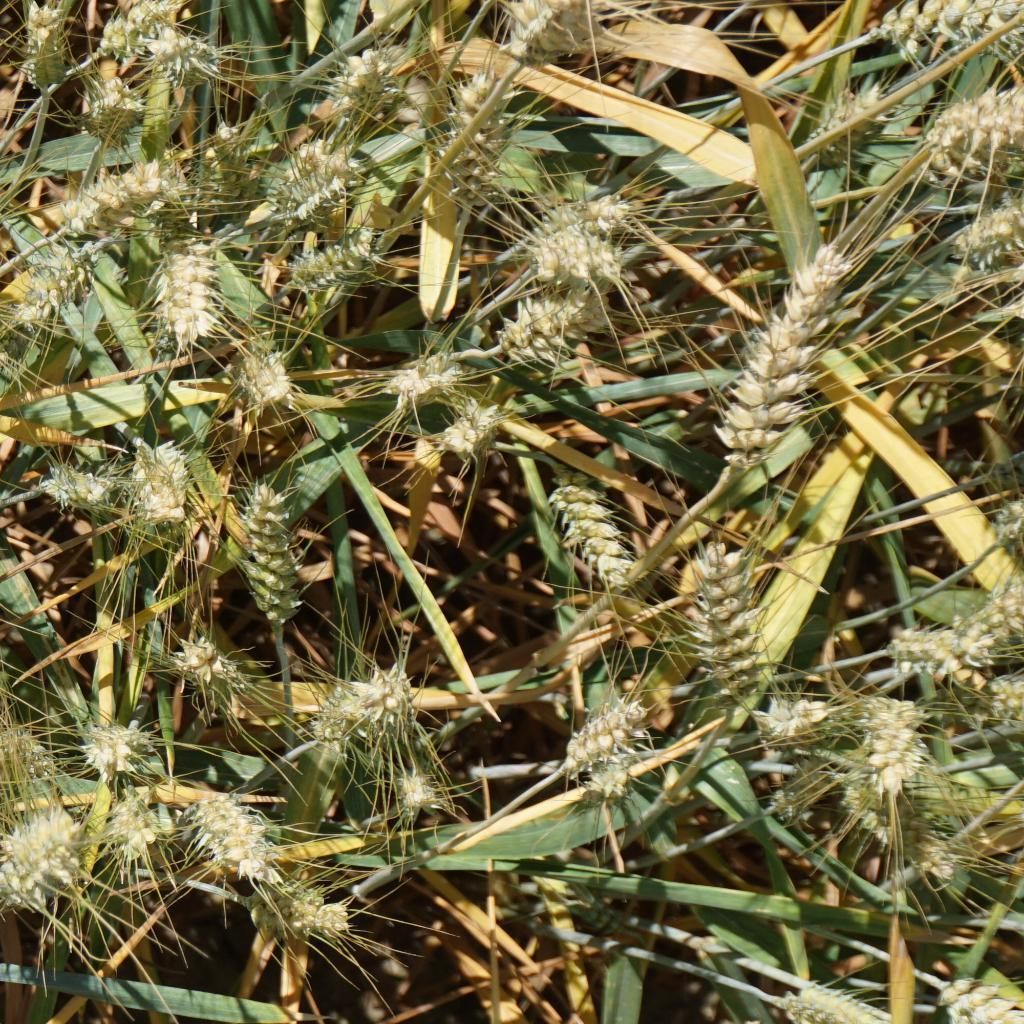0-0: (706, 231, 864, 481), (824, 759, 961, 888), (678, 526, 769, 691), (433, 71, 519, 219), (548, 473, 652, 595), (847, 678, 937, 793), (62, 156, 183, 241), (237, 477, 305, 621), (495, 291, 617, 369), (925, 89, 1024, 183), (139, 231, 220, 338), (934, 576, 1024, 666), (0, 812, 78, 915), (560, 688, 650, 776), (183, 782, 270, 871), (310, 39, 396, 126), (573, 730, 657, 819), (881, 0, 1004, 60), (802, 82, 890, 163), (761, 732, 839, 822), (877, 604, 965, 682), (21, 248, 103, 331), (385, 753, 472, 828), (180, 621, 251, 711), (540, 177, 640, 240), (268, 135, 335, 228), (197, 111, 254, 219), (359, 659, 435, 736), (136, 22, 224, 88), (128, 429, 188, 524), (947, 206, 1024, 279), (250, 884, 336, 948), (82, 708, 159, 779), (775, 976, 887, 1024), (84, 0, 177, 55), (100, 789, 164, 866), (36, 444, 111, 508), (519, 0, 598, 60), (940, 968, 1024, 1024), (15, 0, 64, 91), (440, 396, 515, 455), (300, 681, 361, 752), (537, 216, 608, 277), (0, 708, 56, 784), (237, 341, 297, 411), (760, 685, 823, 746), (392, 345, 459, 402), (86, 83, 146, 140), (285, 243, 334, 310), (974, 669, 1024, 728)
